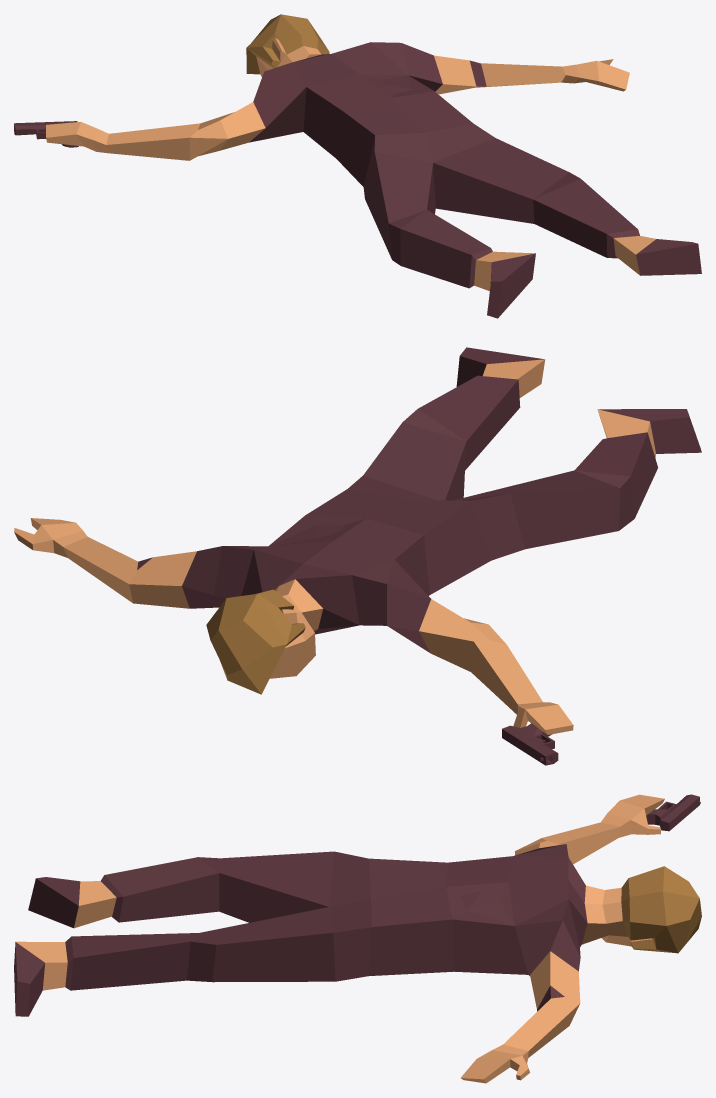
The model's file is apocalypse-man-shirt-dead-a.glb.
3 views of the same model, one above another, from view 1: azimuth 30°, elevation 25°; view 2: azimuth 150°, elevation 25°; view 3: azimuth 270°, elevation 25° (orthographic). The views are drawn at different scales.
Parts seen in each view (by area): view 1: man-shirt-dead-a; view 2: man-shirt-dead-a; view 3: man-shirt-dead-a.
Boxes of the visible parts, <box> form: man-shirt-dead-a: <box>14,14,701,318</box>; man-shirt-dead-a: <box>14,347,701,765</box>; man-shirt-dead-a: <box>14,794,701,1083</box>.
Bounding box in the file's own units: 1.76 × 0.2524 × 1.82.
